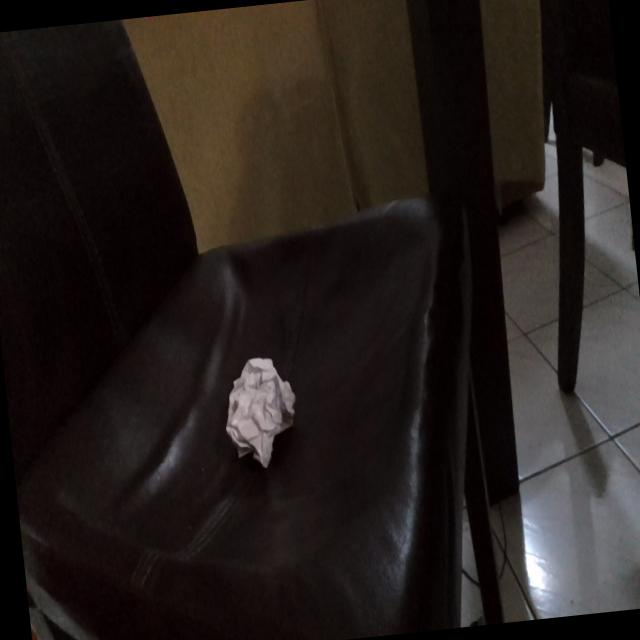crumpled_paper: (216, 344, 306, 471)
